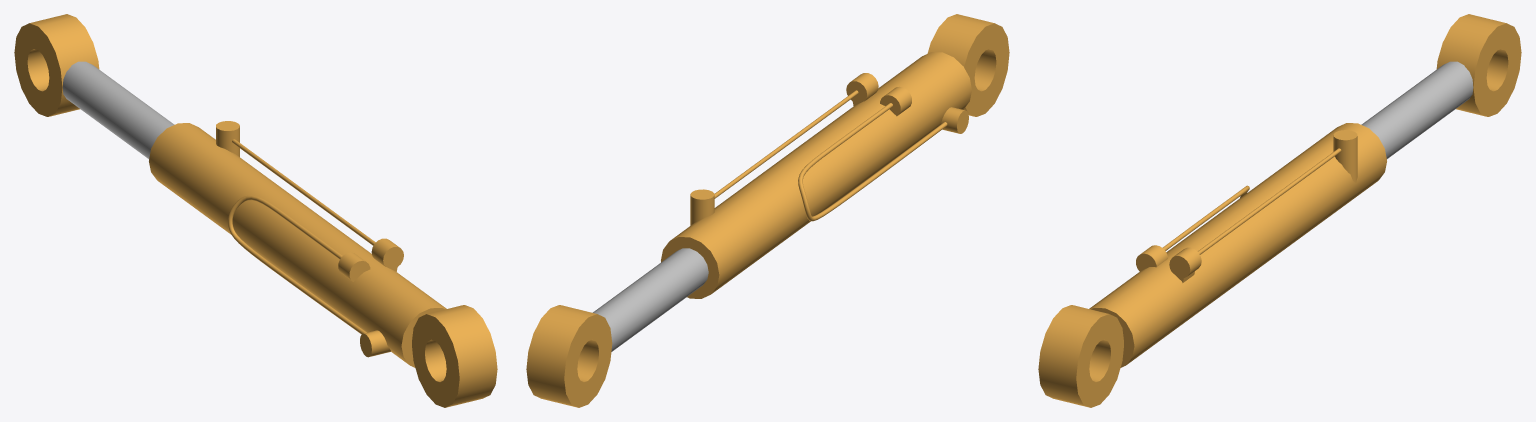
Rendered from Arm Cylinder.fbx.
3 renders of one model, left to right at view 1: azimuth 30°, elevation 25°; view 2: azimuth 150°, elevation 25°; view 3: azimuth 330°, elevation 25°, orthographic.
Parts seen in each view (by area): view 1: Cylinder.002, Cylinder.003, Cylinder, Cylinder.001, NurbsPath, Cylinder.006, Cylinder.005, Cylinder.004, Cylinder.007, Cylinder.008; view 2: Cylinder.002, Cylinder, Cylinder.001, Cylinder.003, NurbsPath, Cylinder.006, Cylinder.004, Cylinder.005, Cylinder.007, Cylinder.008; view 3: Cylinder.002, Cylinder.003, Cylinder, Cylinder.001, Cylinder.004, Cylinder.006, Cylinder.005, NurbsPath, Cylinder.007.
Boxes of the visible parts, x1,y1,x2,y2 form: Cylinder.002: (149, 123, 446, 367); Cylinder.003: (412, 305, 497, 407); Cylinder: (14, 14, 99, 116); Cylinder.001: (62, 61, 174, 158); NurbsPath: (228, 195, 366, 334); Cylinder.006: (232, 139, 375, 245); Cylinder.005: (371, 238, 403, 271); Cylinder.004: (216, 121, 239, 156); Cylinder.007: (338, 252, 370, 281); Cylinder.008: (360, 330, 390, 357); Cylinder.002: (661, 52, 971, 298); Cylinder: (526, 305, 612, 407); Cylinder.001: (593, 248, 708, 351); Cylinder.003: (927, 14, 1009, 116); NurbsPath: (798, 103, 947, 221); Cylinder.006: (714, 90, 858, 198); Cylinder.004: (690, 189, 714, 225); Cylinder.005: (846, 73, 878, 105); Cylinder.007: (880, 86, 911, 116); Cylinder.008: (939, 107, 968, 133); Cylinder.002: (1089, 123, 1386, 367); Cylinder.003: (1038, 305, 1123, 407); Cylinder: (1436, 14, 1521, 116); Cylinder.001: (1361, 61, 1473, 158); Cylinder.004: (1333, 130, 1357, 182); Cylinder.006: (1197, 148, 1341, 254); Cylinder.005: (1169, 247, 1201, 282); NurbsPath: (1162, 185, 1249, 250); Cylinder.007: (1136, 245, 1167, 271).
Bounding box in the file's own units: 173 × 207 × 1853.
